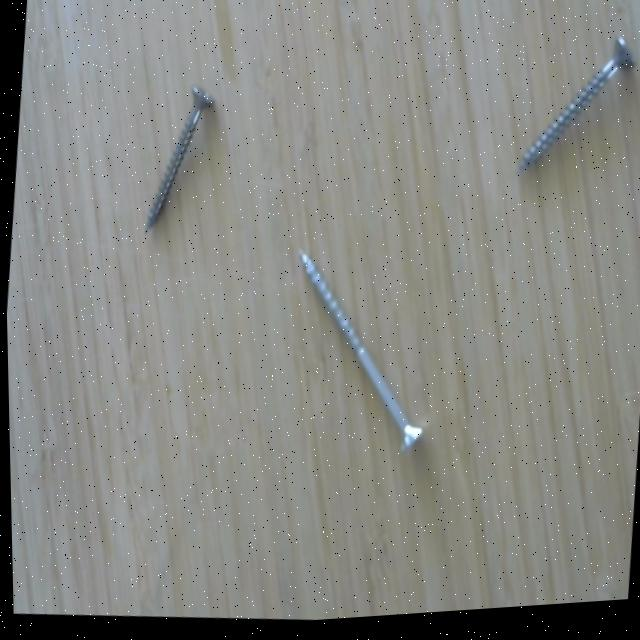Black screw: (507, 34, 640, 190), (132, 81, 223, 247)
Long screw: (290, 239, 431, 469)
